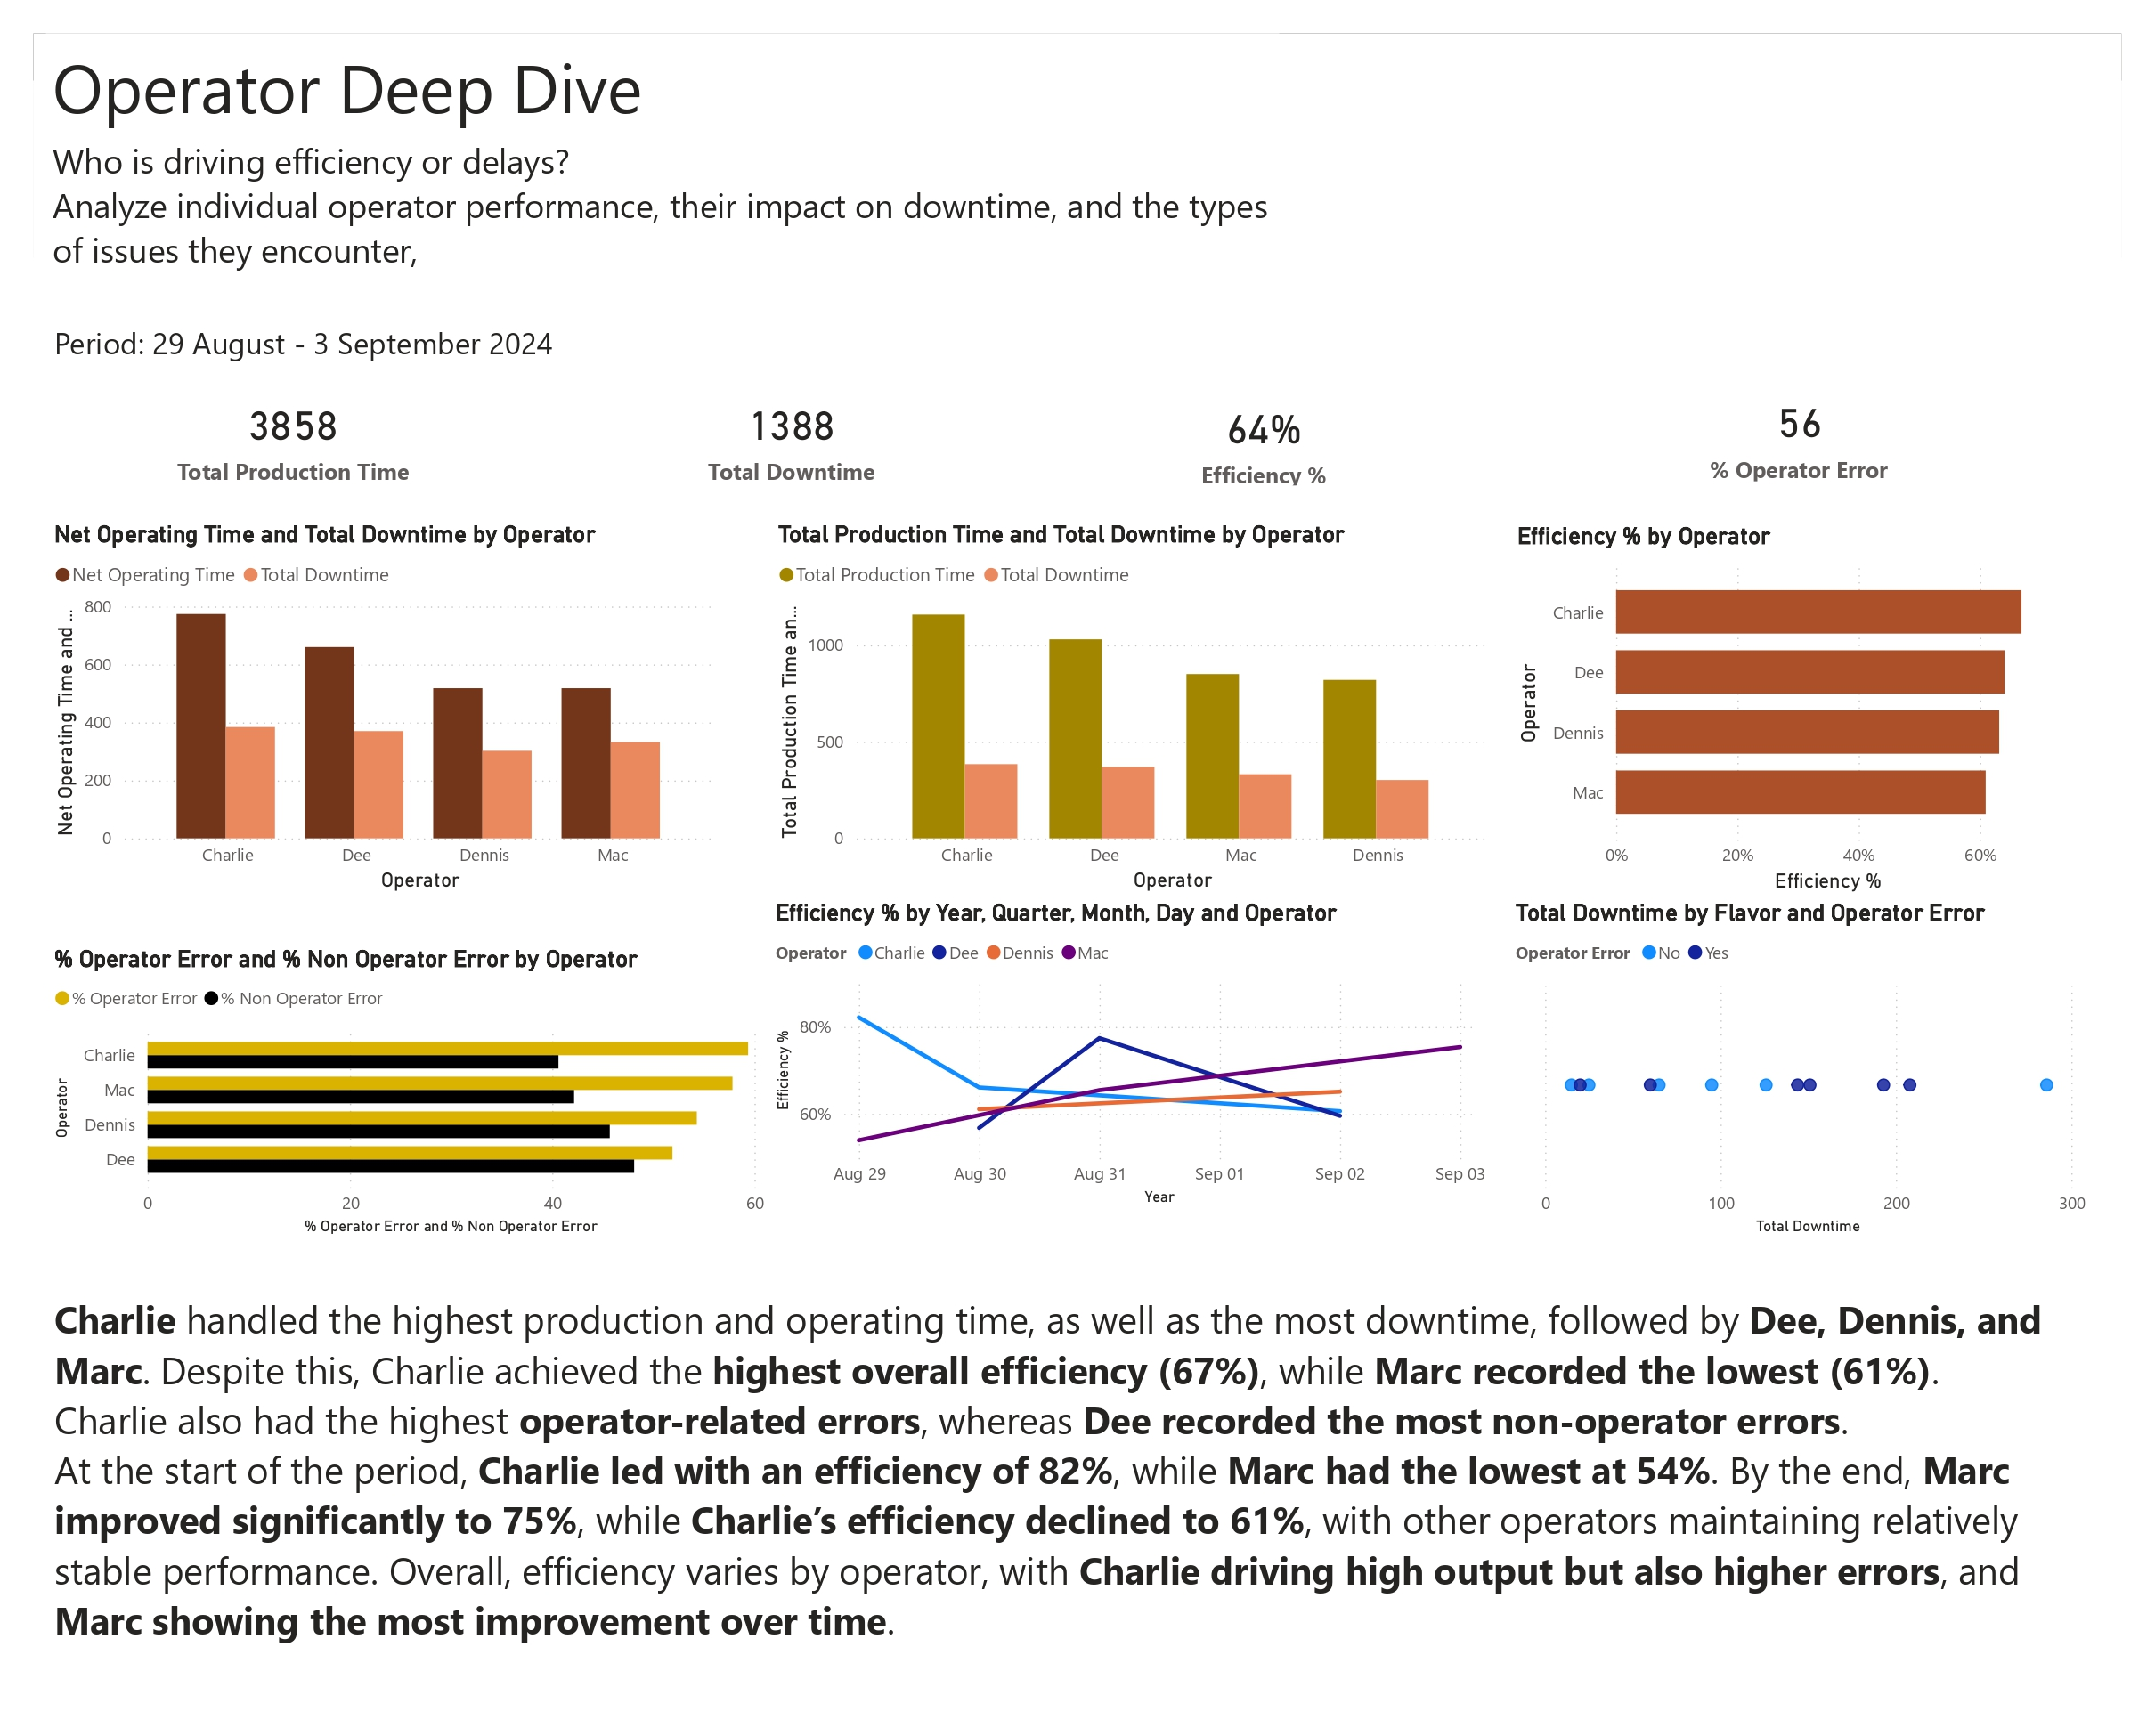

The page's visual inventory and layout, read from the dashboard file:
{"tool":"powerbi","page":{"name":"Who is Driving Efficiency or Delays","canvas":[1500,1200],"ordinal":2},"visuals":[{"type":"textbox","box":[9.1,0,885.4,84.1],"z":0},{"type":"textbox","box":[9.1,69.5,885.4,146.3],"z":1000},{"type":"textbox","box":[10.1,203,885.4,53.3],"z":2000},{"type":"card","fields":{"Values":["Downtime factors.Total Production Time"]},"box":[10.1,253.7,352.6,73.6],"z":3000},{"type":"card","fields":{"Values":["Downtime factors.Total Downtime"]},"box":[362.8,253.7,362.8,73.6],"z":4000},{"type":"card","fields":{"Values":["Downtime factors.Efficiency %"]},"box":[690.1,256.2,388.2,73.6],"z":5000},{"type":"card","fields":{"Values":["Downtime factors.% Operator Error"]},"box":[1078.2,251.2,380.5,76.1],"z":6000},{"type":"clusteredColumnChart","fields":{"Category":["Line productivity.Operator"],"Y":["Downtime factors.Net Operating Time","Downtime factors.Total Downtime"]},"box":[10.1,350.1,484.6,271.5],"z":7000},{"type":"clusteredColumnChart","fields":{"Category":["Line productivity.Operator"],"Y":["Downtime factors.Total Production Time","Downtime factors.Total Downtime"]},"box":[530.2,350.1,520.1,271.5],"z":8000},{"type":"clusteredBarChart","fields":{"Category":["Line productivity.Operator"],"Y":["Downtime factors.Efficiency %"]},"box":[1060.5,350.1,418.6,271.5],"z":9000},{"type":"clusteredBarChart","fields":{"Category":["Line productivity.Operator"],"Y":["Downtime factors.% Operator Error","Downtime factors.% Non Operator Error"]},"box":[10.1,654.5,520.1,213.1],"z":10000},{"type":"scatterChart","fields":{"X":["Downtime factors.Total Downtime"],"Category":["Products.Flavor"],"Series":["Downtime factors.Operator Error"]},"box":[1060.5,621.6,418.6,246.1],"z":11000},{"type":"lineChart","fields":{"Category":["Line productivity.Date.Variation.Date Hierarchy.Year","Line productivity.Date.Variation.Date Hierarchy.Quarter","Line productivity.Date.Variation.Date Hierarchy.Month","Line productivity.Date.Variation.Date Hierarchy.Day"],"Series":["Line productivity.Operator"],"Y":["Downtime factors.Efficiency %"]},"box":[527.7,621.6,520.1,225.8],"z":13000},{"type":"textbox","box":[10.1,900.6,1468.9,281.6],"z":14000}]}

Visuals, with their boxes on the page's 1500x1200 design canvas (x1, y1, x2, y2). These are canvas units, not pixel positions in the 2155x1736 screenshot, which may show the page scaled, cropped or inside an application window:
textbox: 9/0/894/84
textbox: 9/70/894/216
textbox: 10/203/896/256
card - Downtime factors.Total Production Time: 10/254/363/327
card - Downtime factors.Total Downtime: 363/254/726/327
card - Downtime factors.Efficiency %: 690/256/1078/330
card - Downtime factors.% Operator Error: 1078/251/1459/327
clusteredColumnChart - Line productivity.Operator x Downtime factors.Net Operating Time: 10/350/495/622
clusteredColumnChart - Line productivity.Operator x Downtime factors.Total Production Time: 530/350/1050/622
clusteredBarChart - Line productivity.Operator x Downtime factors.Efficiency %: 1060/350/1479/622
clusteredBarChart - Line productivity.Operator x Downtime factors.% Operator Error: 10/654/530/868
scatterChart - Downtime factors.Total Downtime x Products.Flavor: 1060/622/1479/868
lineChart - Line productivity.Date.Variation.Date Hierarchy.Year x Line productivity.Date.Variation.Date Hierarchy.Quarter: 528/622/1048/847
textbox: 10/901/1479/1182
